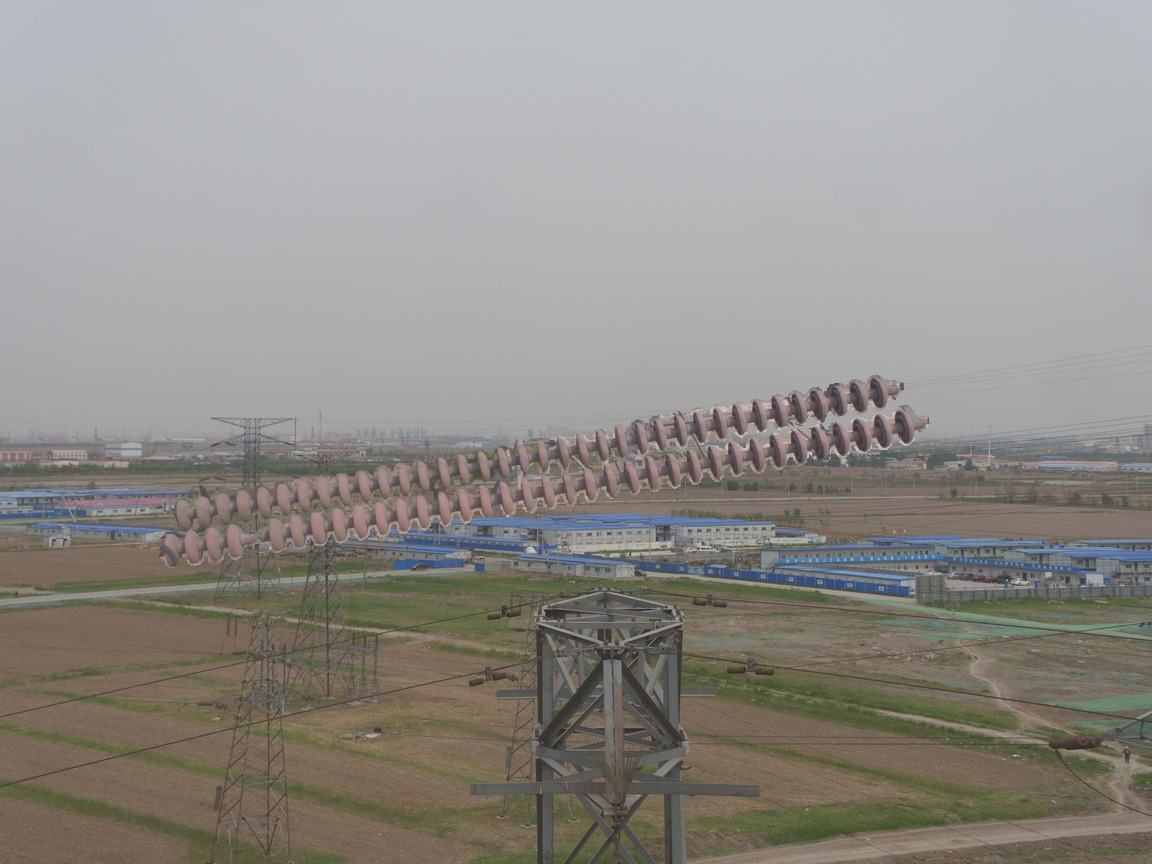defect: (221, 517, 286, 562)
